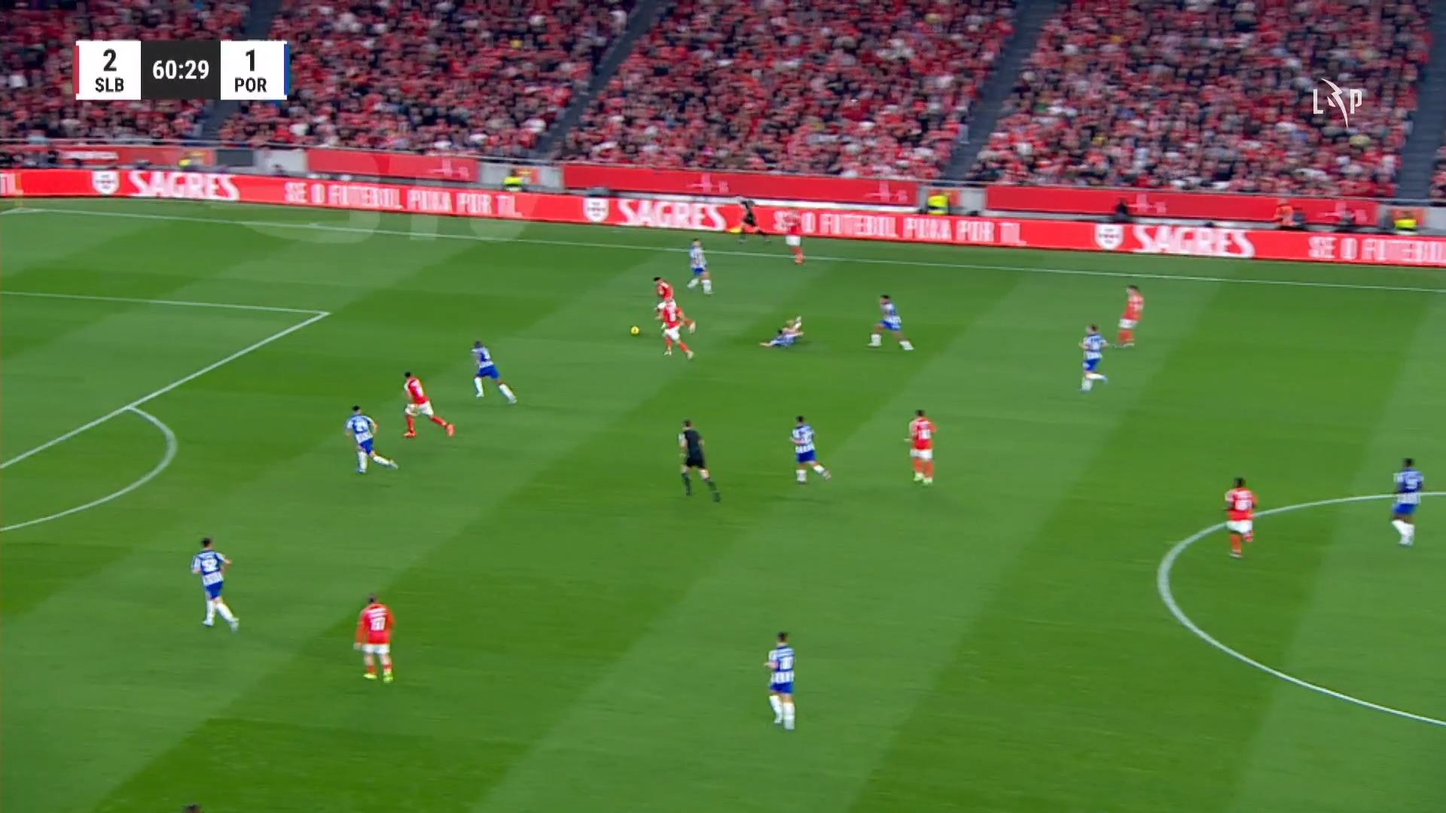ball: (630, 325, 639, 336)
player: (190, 536, 239, 632), (352, 593, 395, 683), (344, 403, 398, 473), (401, 370, 455, 437), (763, 630, 796, 730), (1389, 456, 1424, 546), (469, 339, 517, 403), (789, 414, 831, 483), (1222, 476, 1257, 558), (866, 293, 914, 350), (655, 296, 696, 360), (904, 408, 937, 485), (1078, 323, 1109, 391), (1115, 284, 1144, 348), (685, 238, 712, 295), (759, 315, 804, 348), (780, 208, 806, 263), (651, 275, 675, 320)
referee: (676, 419, 721, 502), (734, 196, 770, 243)
